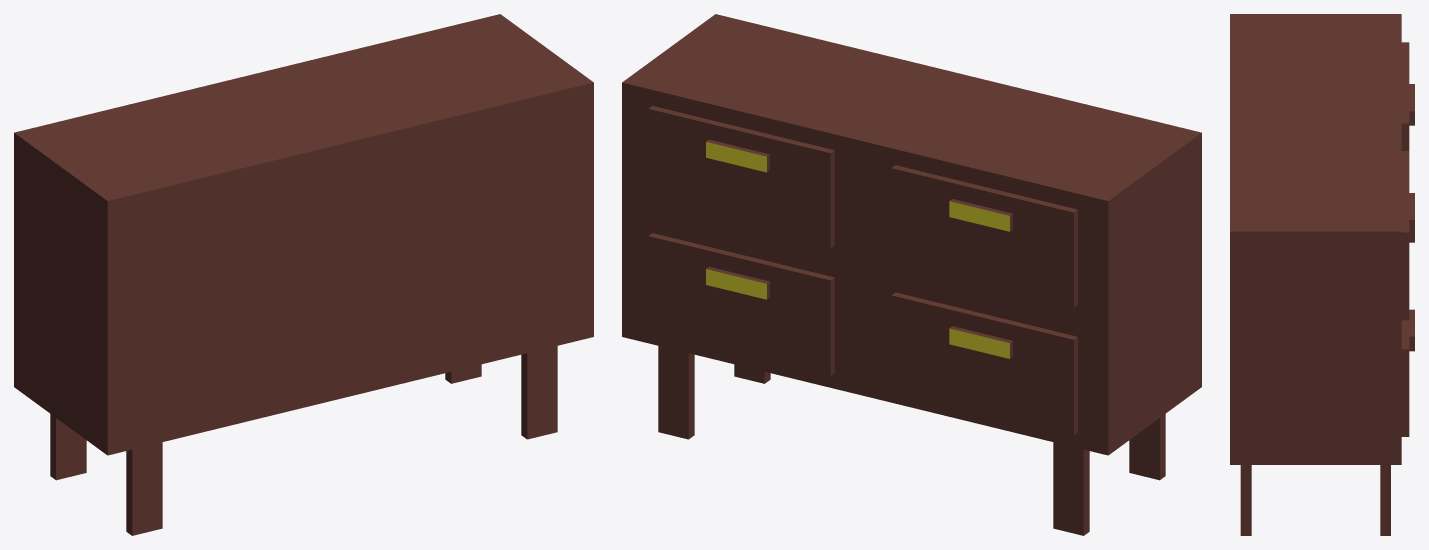
File: Dresser.fbx
3 views of the same model, side by side, from view 1: azimuth 30°, elevation 25°; view 2: azimuth 150°, elevation 25°; view 3: azimuth 270°, elevation 25° (orthographic). The views are drawn at different scales.
Parts seen in each view (by area): view 1: Cube; view 2: Cube; view 3: Cube.
Boxes of the visible parts, x1,y1,x2,y2 form: Cube: (14,14,593,535); Cube: (622,14,1201,535); Cube: (1230,14,1414,535).
Size of the model in its own units: 600 by 409 by 215.
Materials: 1 (1 with a texture image).
